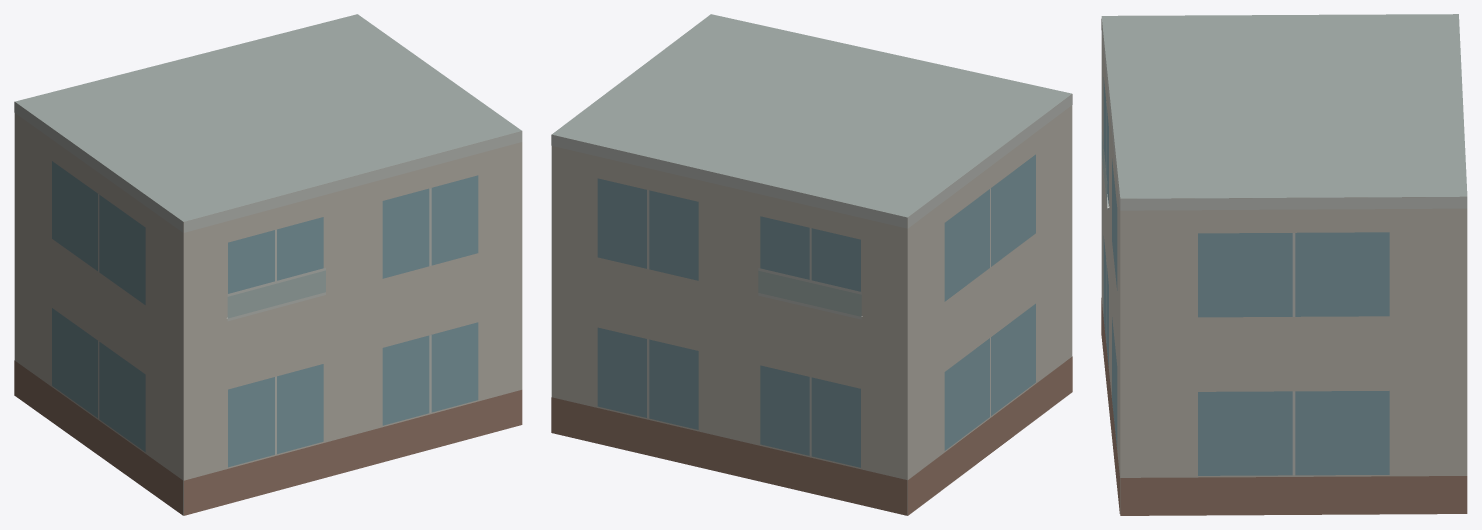
The model's file is survey-upis-32611312.glb.
3 renders of one model, left to right at view 1: azimuth 30°, elevation 25°; view 2: azimuth 150°, elevation 25°; view 3: azimuth 270°, elevation 25°, orthographic. The views are drawn at different scales.
Visible parts, largest first — view 1: survey-upis-32611312.tmp; view 2: survey-upis-32611312.tmp; view 3: survey-upis-32611312.tmp.
Part boxes in pixels (box(x1,y1,x2,y2)): survey-upis-32611312.tmp: box(14, 14, 522, 515); survey-upis-32611312.tmp: box(551, 14, 1072, 515); survey-upis-32611312.tmp: box(1101, 14, 1467, 515).
Size of the model in its own units: 8.13 by 6.5 by 6.81.
